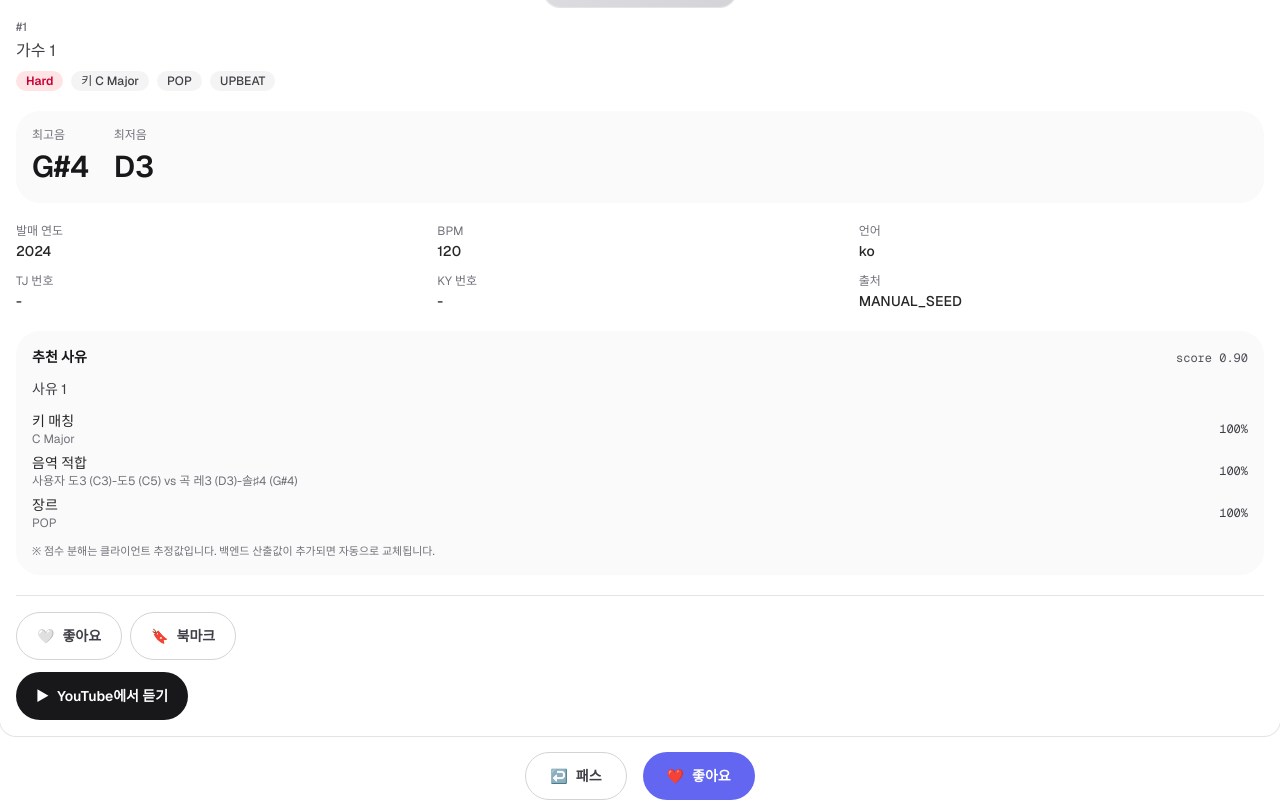
SwipeDeck › 좋아요 버튼 → 다음 카드 + swipeReactions 'like' 기록 + likes 반영
The image size is (1280, 800).
(page scrolled)
Click the button "❤️ 좋아요" at (699, 776), box x1=643 y1=752 x2=755 y2=799
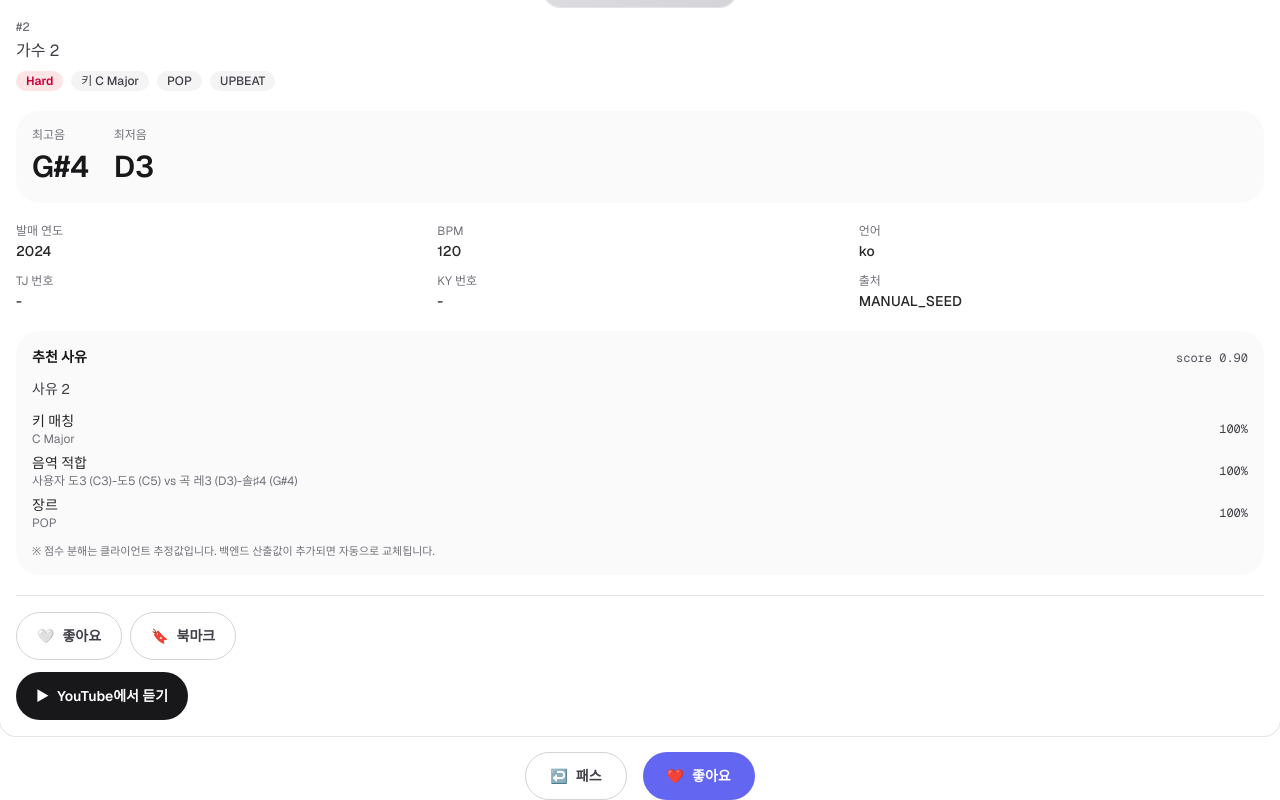
Check: the text "가수 2" is shown, box x1=16 y1=40 x2=59 y2=61
